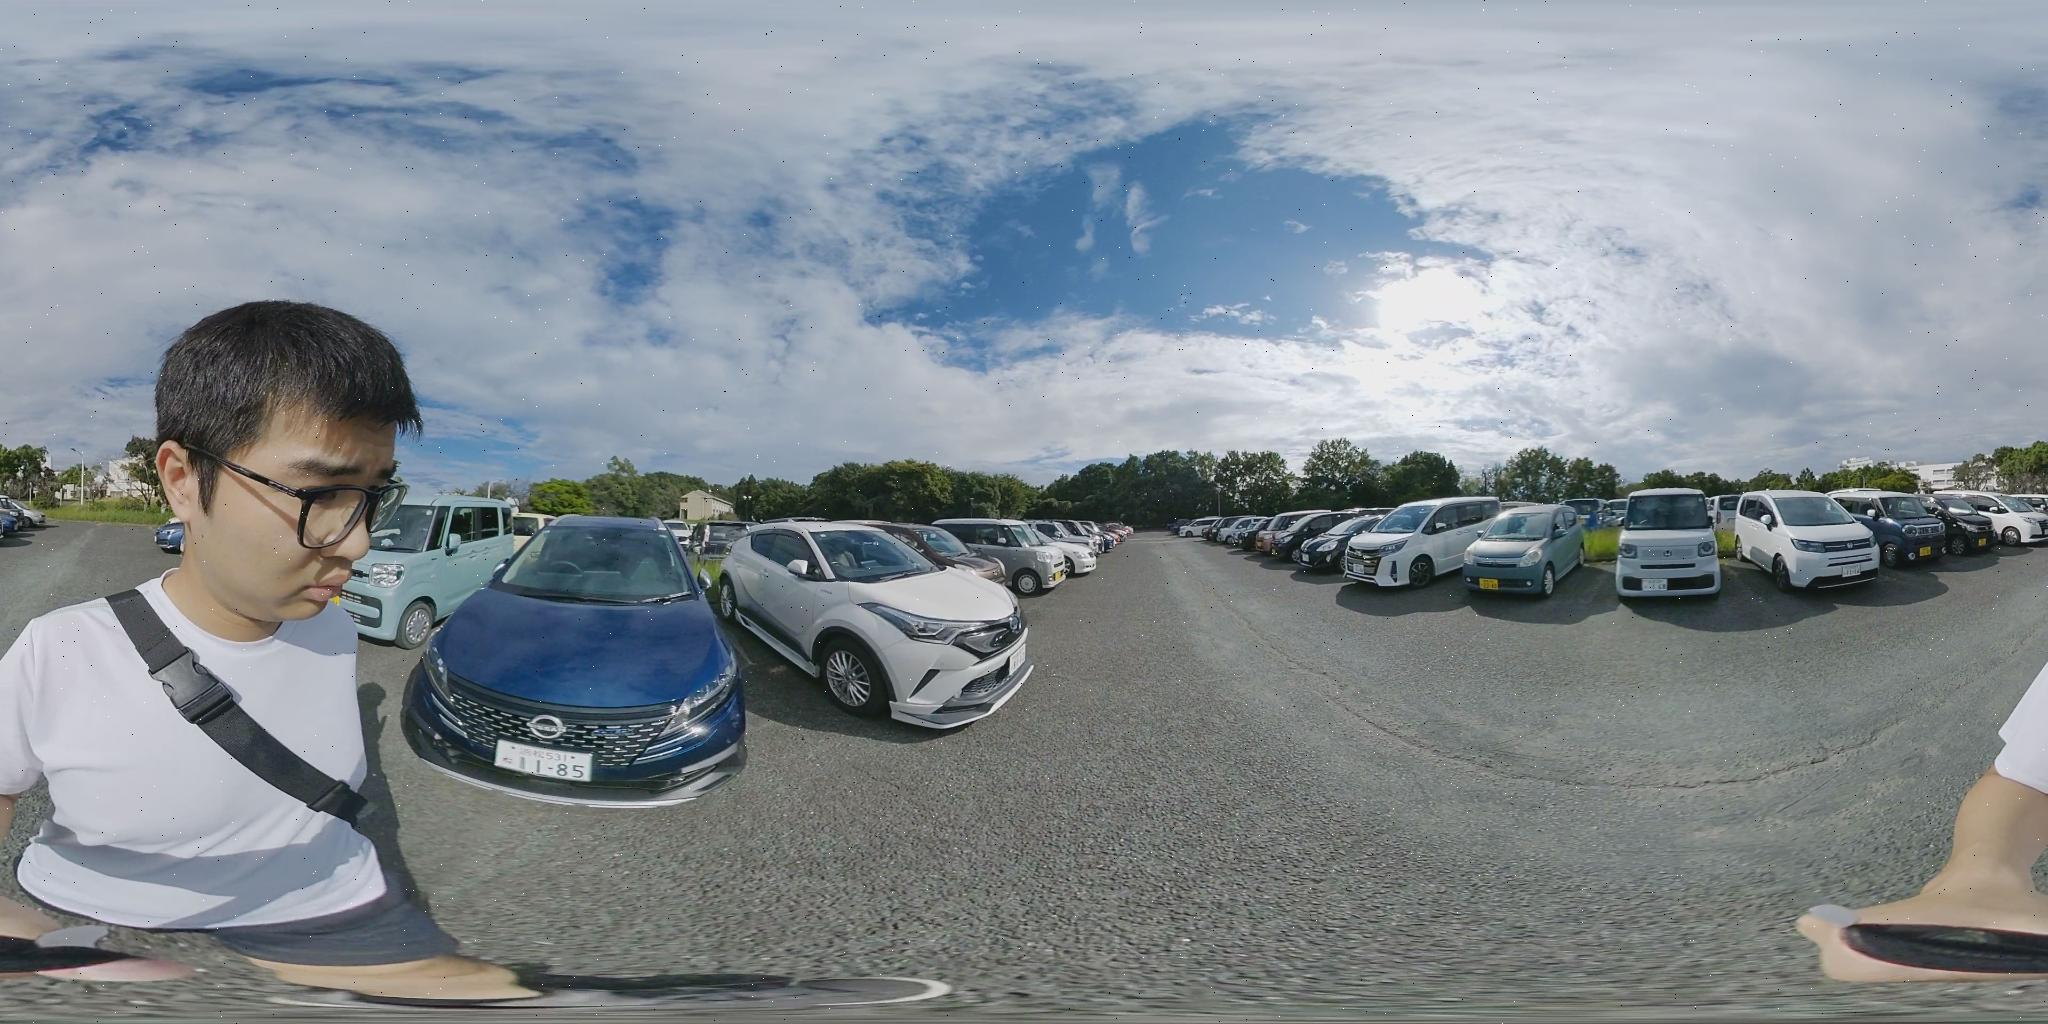car: (419, 508, 755, 799), (694, 519, 1046, 730), (1328, 498, 1529, 586), (1725, 494, 1893, 590), (1464, 502, 1596, 596), (923, 520, 1091, 593), (1620, 488, 1727, 592), (1852, 499, 1947, 564), (1938, 491, 2048, 545), (1264, 512, 1368, 562), (1213, 520, 1267, 549), (1174, 521, 1225, 542), (157, 522, 189, 554)
